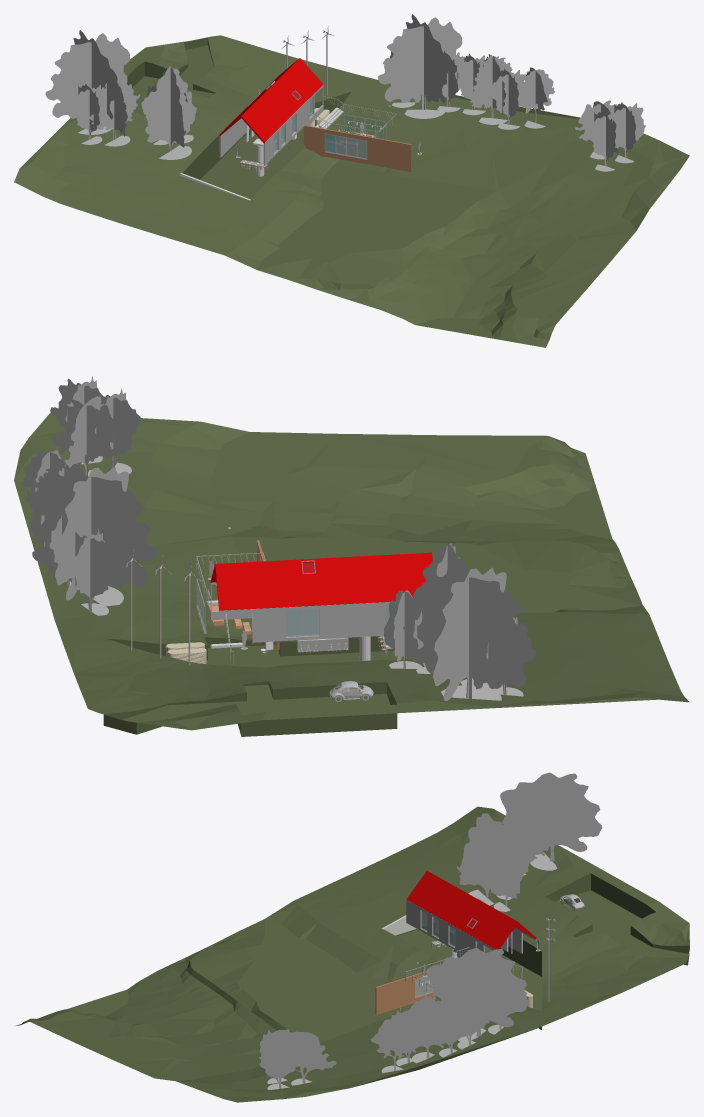
3 renders of one model, top to bottom at view 1: azimuth 30°, elevation 25°; view 2: azimuth 150°, elevation 25°; view 3: azimuth 270°, elevation 25°, orthographic. The views are drawn at different scales.
Visible parts, largest first — view 1: 3ZGD7y6S5209$mGLi_sPll, 2kYqvrv7r7Ee9Lf6DEVctg, 2kYqvrv7r7Ee9Lf6DEVd2D, 2cgXCjpDT0ZxBvxMSr3pfm, 2kYqvrv7r7Ee9Lf6DEVcq_, 2OulbipBrAkwQNv_KJRV9c, 2kYqvrv7r7Ee9Lf6DEVcvD, 2kYqvrv7r7Ee9Lf6DEVcn3, 2kYqvrv7r7Ee9Lf6DEVclx, 2kYqvrv7r7Ee9Lf6DEVcpT, 38NblWsDL1I8DljLvn67cw, 2kYqvrv7r7Ee9Lf6DEVcm8 (+6 smaller); view 2: 3ZGD7y6S5209$mGLi_sPll, 2kYqvrv7r7Ee9Lf6DEVd2D, 2kYqvrv7r7Ee9Lf6DEVctg, 2cgXCjpDT0ZxBvxMSr3pfm, 38NblWsDL1I8DljLvn67bV, 2kYqvrv7r7Ee9Lf6DEVcim, 2kYqvrv7r7Ee9Lf6DEVctv, 2kYqvrv7r7Ee9Lf6DEVclx, 2kYqvrv7r7Ee9Lf6DEVcw_, 2kYqvrv7r7Ee9Lf6DEVclA, 2kYqvrv7r7Ee9Lf6DEVcpT, 2kYqvrv7r7Ee9Lf6DEVcq_ (+3 smaller); view 3: 3ZGD7y6S5209$mGLi_sPll, 2kYqvrv7r7Ee9Lf6DEVd2D, 2kYqvrv7r7Ee9Lf6DEVctg, 2cgXCjpDT0ZxBvxMSr3pfm, 2kYqvrv7r7Ee9Lf6DEVcq_, 2kYqvrv7r7Ee9Lf6DEVclA, 2kYqvrv7r7Ee9Lf6DEVcvD, 2kYqvrv7r7Ee9Lf6DEVcpT, 2kYqvrv7r7Ee9Lf6DEVcn3, 38NblWsDL1I8DljLvn67cw, 2OulbipBrAkwQNv_KJRV9c, 2kYqvrv7r7Ee9Lf6DEVcw_ (+5 smaller).
Boxes of the visible parts, <box> form: 3ZGD7y6S5209$mGLi_sPll: <box>14,35,689,347</box>; 2kYqvrv7r7Ee9Lf6DEVctg: <box>378,14,462,118</box>; 2kYqvrv7r7Ee9Lf6DEVd2D: <box>45,30,129,134</box>; 2cgXCjpDT0ZxBvxMSr3pfm: <box>219,58,323,143</box>; 2kYqvrv7r7Ee9Lf6DEVcq_: <box>145,66,196,159</box>; 2OulbipBrAkwQNv_KJRV9c: <box>303,125,411,171</box>; 2kYqvrv7r7Ee9Lf6DEVcvD: <box>89,78,140,146</box>; 2kYqvrv7r7Ee9Lf6DEVcn3: <box>468,54,514,124</box>; 2kYqvrv7r7Ee9Lf6DEVclx: <box>587,110,625,171</box>; 2kYqvrv7r7Ee9Lf6DEVcpT: <box>517,67,554,128</box>; 38NblWsDL1I8DljLvn67cw: <box>263,84,323,165</box>; 2kYqvrv7r7Ee9Lf6DEVcm8: <box>490,68,525,129</box>; 3ZGD7y6S5209$mGLi_sPll: <box>14,412,689,736</box>; 2kYqvrv7r7Ee9Lf6DEVd2D: <box>410,564,536,710</box>; 2kYqvrv7r7Ee9Lf6DEVctg: <box>32,464,158,606</box>; 2cgXCjpDT0ZxBvxMSr3pfm: <box>210,552,432,610</box>; 38NblWsDL1I8DljLvn67bV: <box>219,601,395,642</box>; 2kYqvrv7r7Ee9Lf6DEVcim: <box>50,396,124,476</box>; 2kYqvrv7r7Ee9Lf6DEVctv: <box>68,529,117,615</box>; 2kYqvrv7r7Ee9Lf6DEVclx: <box>88,388,140,474</box>; 2kYqvrv7r7Ee9Lf6DEVcw_: <box>384,590,422,668</box>; 2kYqvrv7r7Ee9Lf6DEVclA: <box>57,376,106,464</box>; 2kYqvrv7r7Ee9Lf6DEVcpT: <box>21,450,65,503</box>; 2kYqvrv7r7Ee9Lf6DEVcq_: <box>422,543,468,666</box>; 3ZGD7y6S5209$mGLi_sPll: <box>14,806,689,1102</box>; 2kYqvrv7r7Ee9Lf6DEVd2D: <box>500,772,602,870</box>; 2kYqvrv7r7Ee9Lf6DEVctg: <box>427,948,528,1041</box>; 2cgXCjpDT0ZxBvxMSr3pfm: <box>406,871,536,949</box>; 2kYqvrv7r7Ee9Lf6DEVcq_: <box>456,813,515,905</box>; 2kYqvrv7r7Ee9Lf6DEVclA: <box>259,1035,306,1089</box>; 2kYqvrv7r7Ee9Lf6DEVcvD: <box>502,806,552,875</box>; 2kYqvrv7r7Ee9Lf6DEVcpT: <box>370,1017,416,1076</box>; 2kYqvrv7r7Ee9Lf6DEVcn3: <box>409,995,459,1063</box>; 38NblWsDL1I8DljLvn67cw: <box>406,899,494,954</box>; 2OulbipBrAkwQNv_KJRV9c: <box>375,971,435,1014</box>; 2kYqvrv7r7Ee9Lf6DEVcw_: <box>490,853,521,911</box>.
Bounding box in the file's own units: 83.55 × 23.21 × 87.2.
